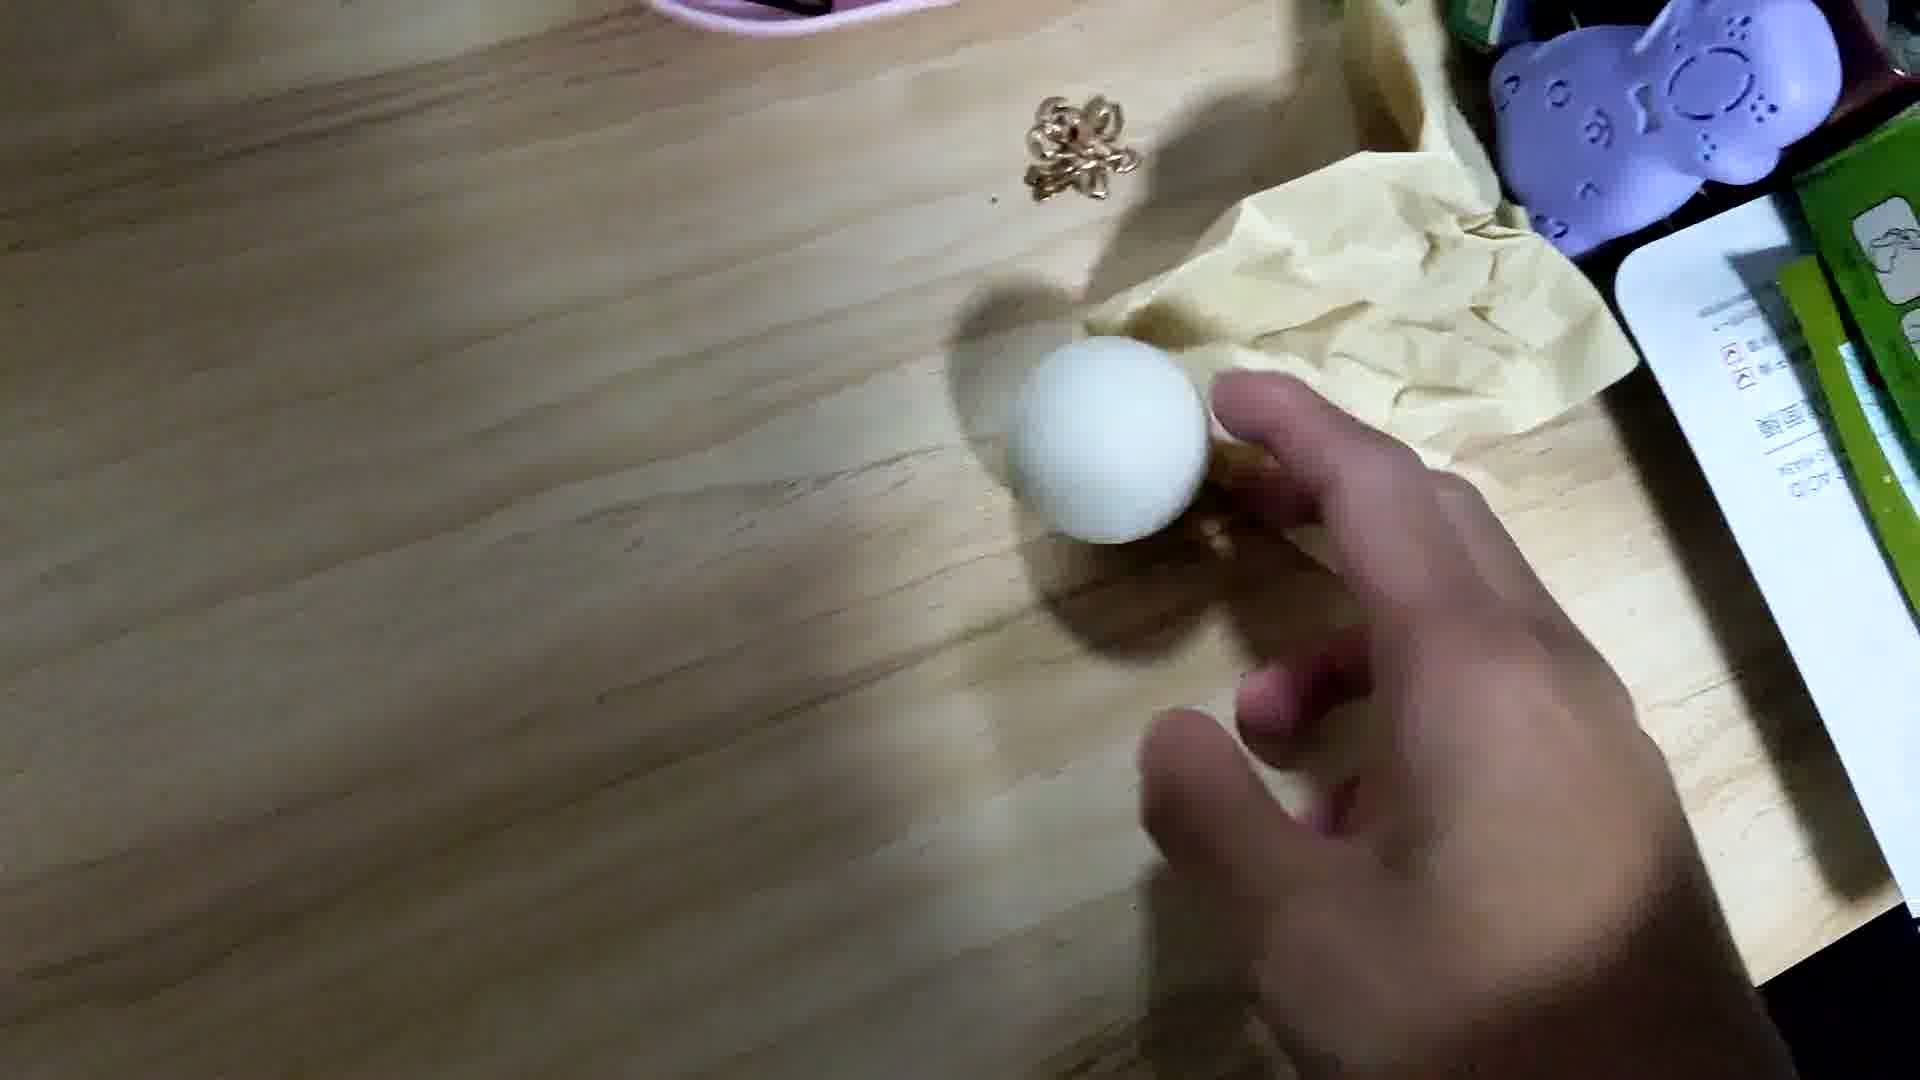Ball: (1004, 335, 1207, 553)
